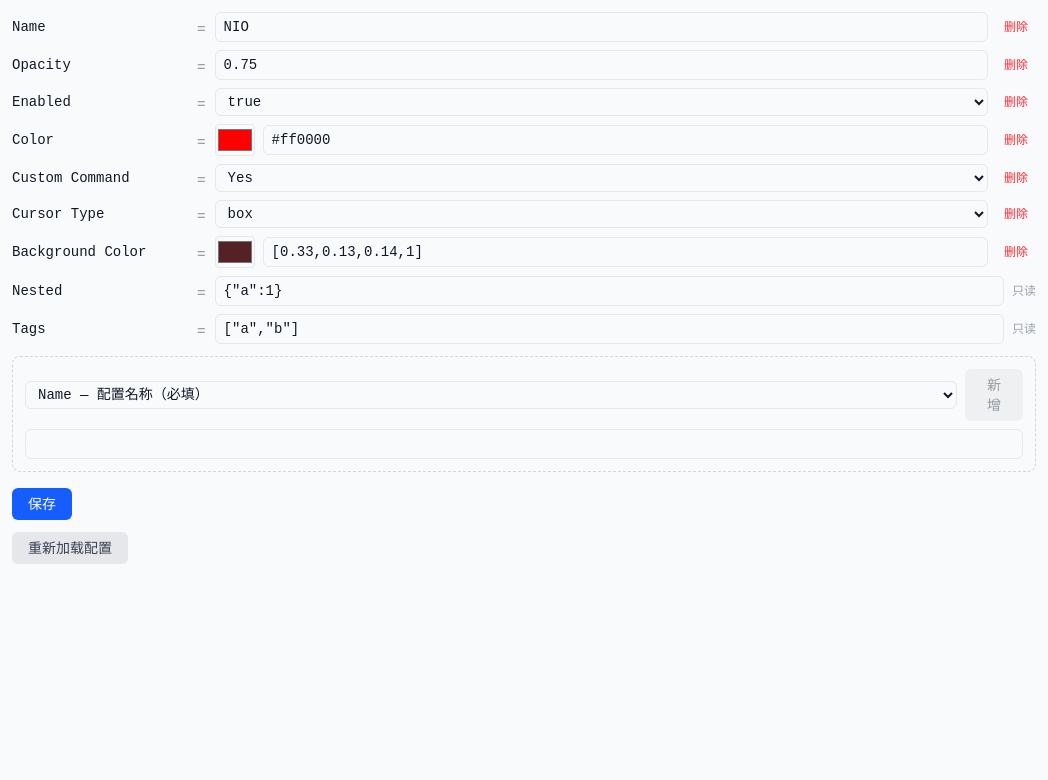
Test case: Iterm2ConfigForm › shows conflict hint when adding an existing key
The image size is (1048, 780).
Select "Name — 配置名称（必填）" in the dropdown titled "从官方支持的 key 中选择" at (491, 395), box left=25, top=381, right=957, bottom=409
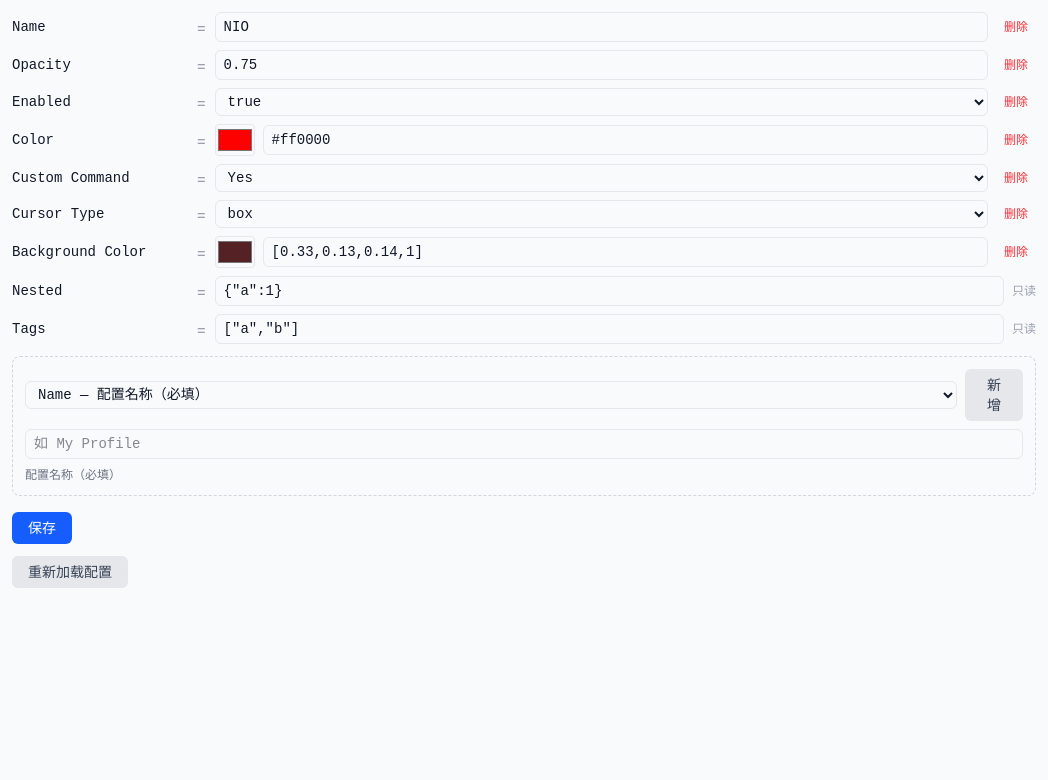
Click the button "新增" at (994, 395), box left=965, top=369, right=1023, bottom=421
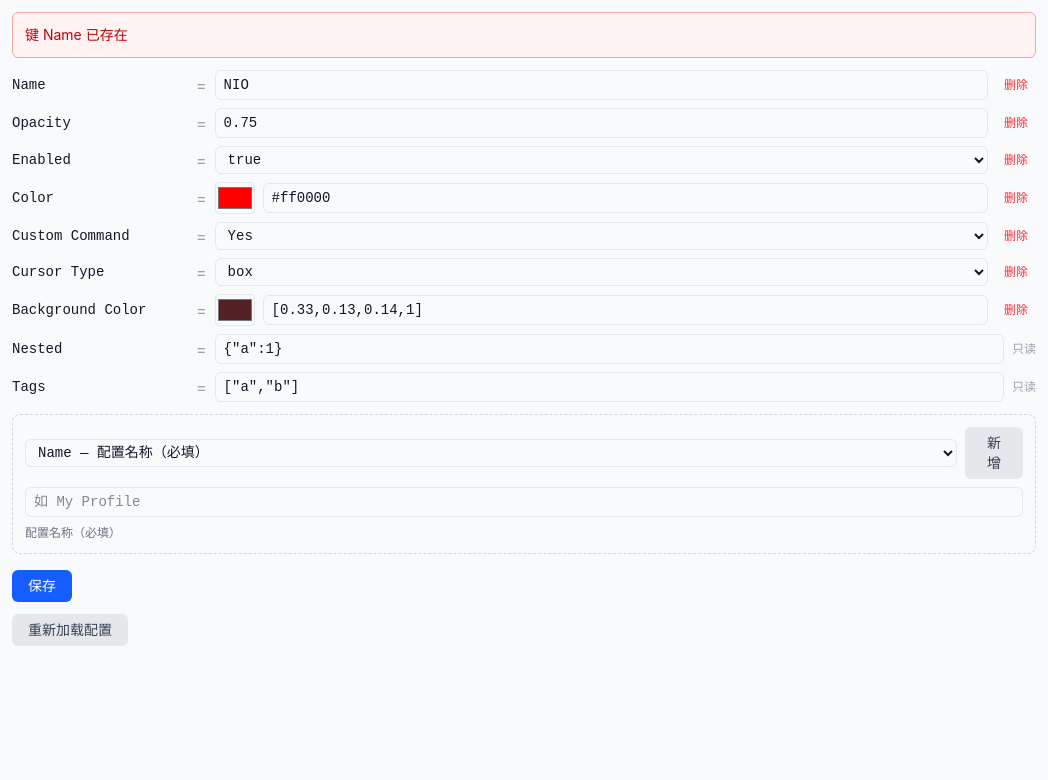
Expected: the text "键 Name 已存在" is shown, left=12, top=12, right=1036, bottom=58
